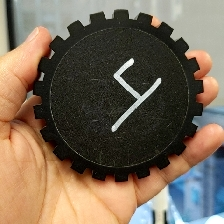gear: (31, 7, 206, 185)
